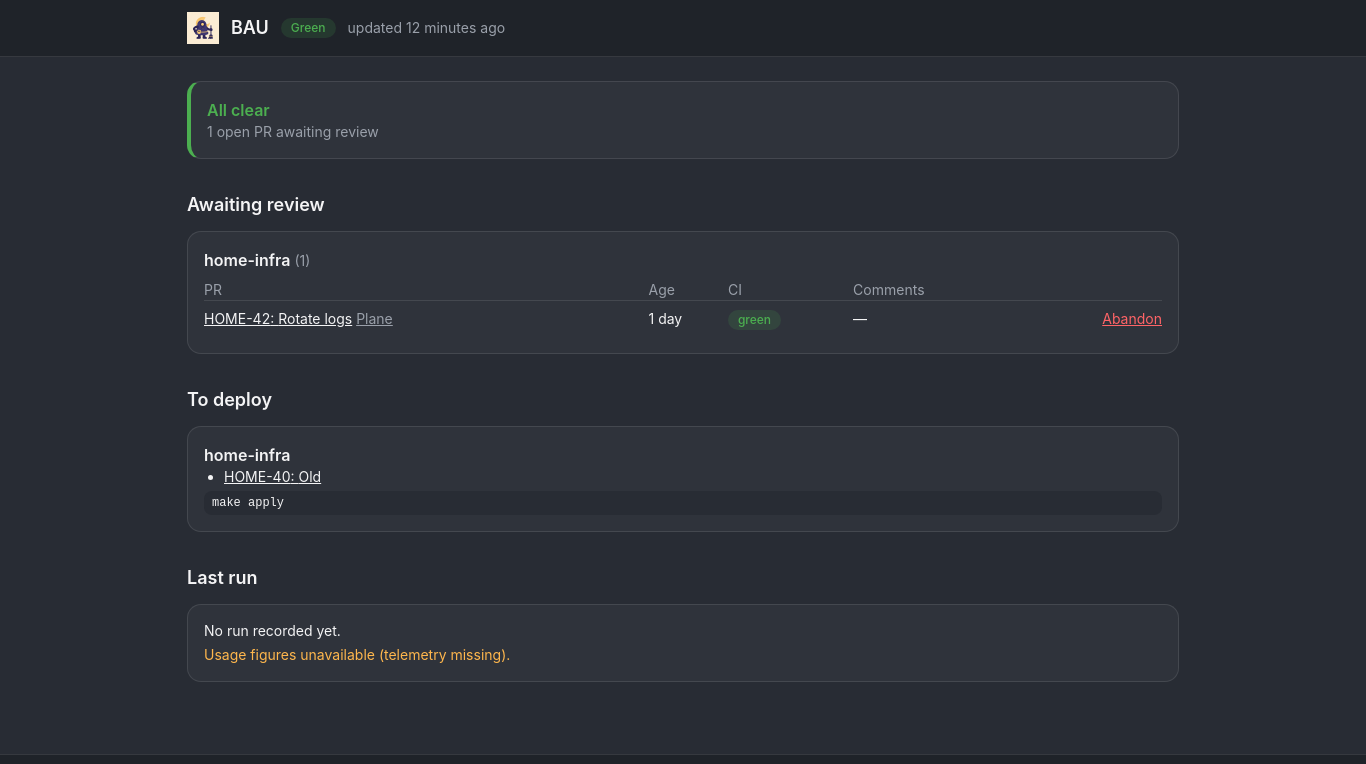
Test: App › shows the API error text when abandon is refused
The image size is (1366, 764).
Click the button "Abandon" at (1132, 319), box [1102,309,1162,329]
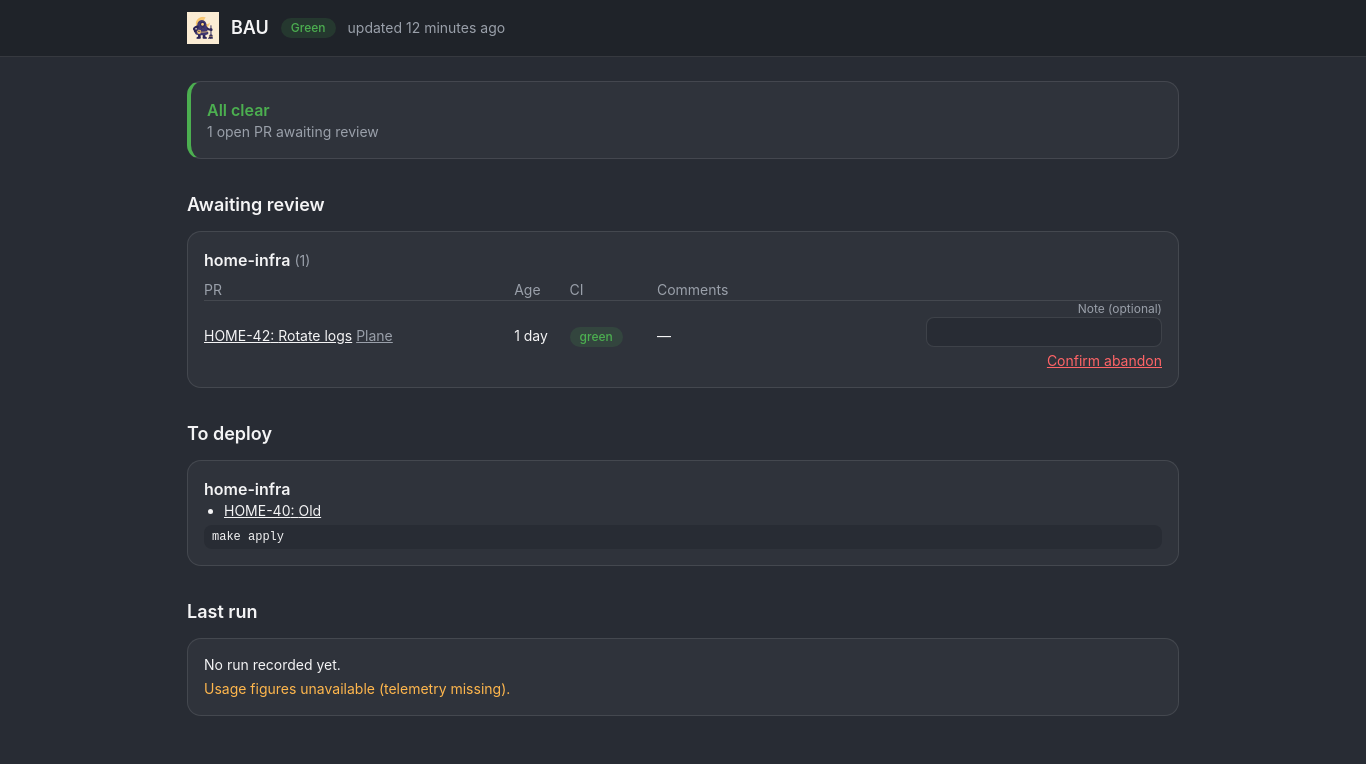
Click the button "Confirm abandon" at (1104, 361), box [1047,351,1162,371]
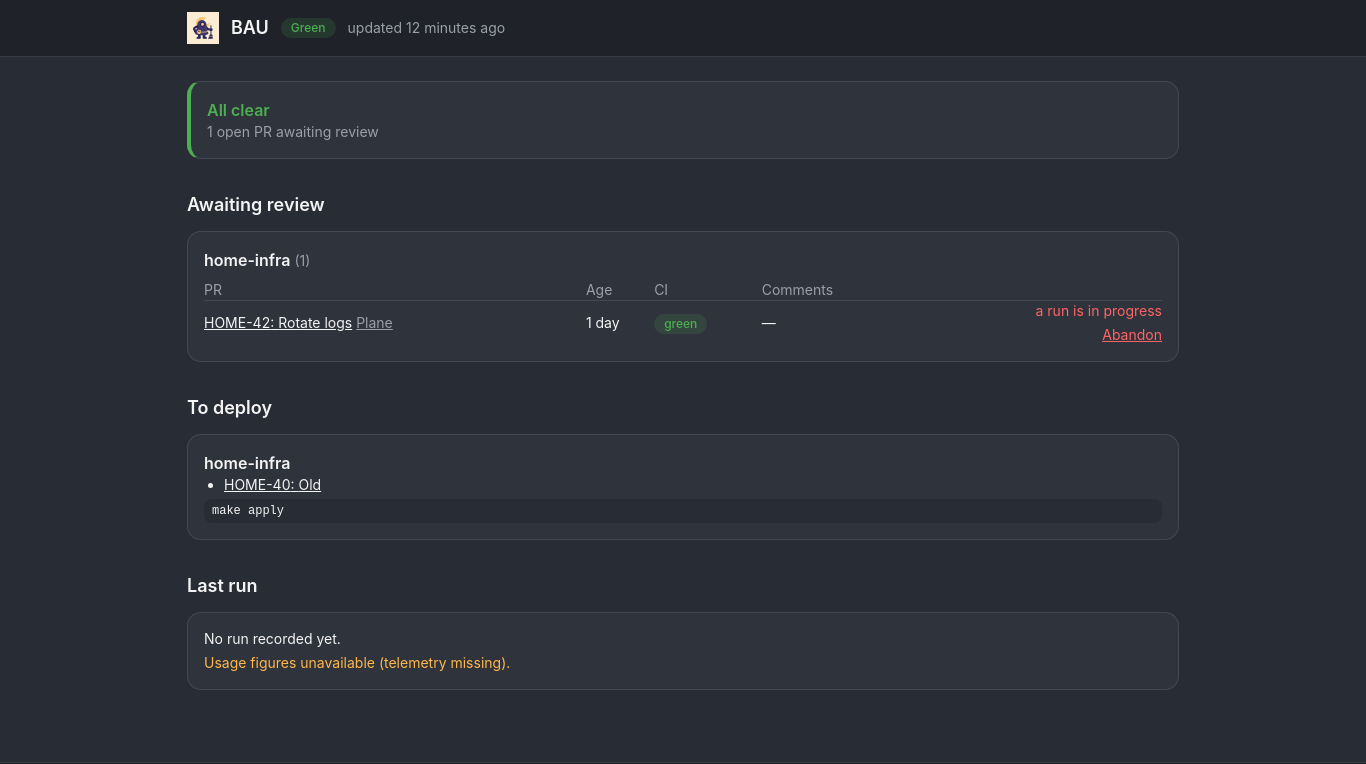
Result: the text "a run is in progress" is shown at [1036,301,1162,321]
